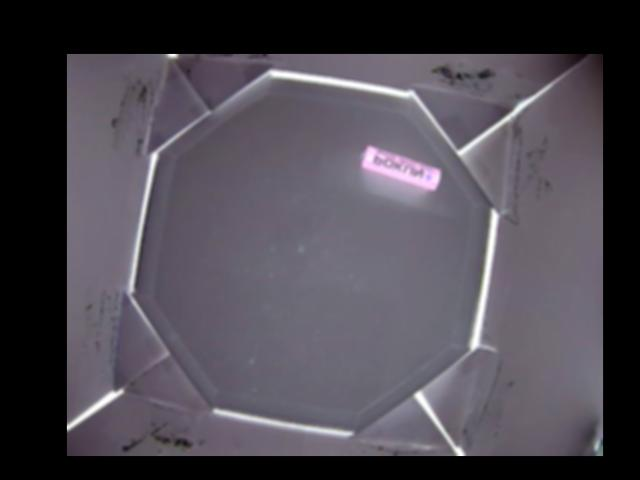Battery: (360, 145, 441, 190)
